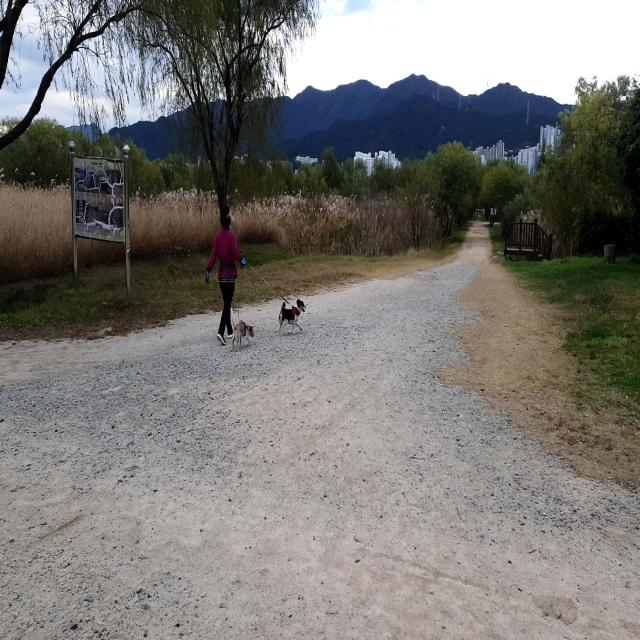Leashed_Dog: (227, 256, 306, 337), (227, 255, 254, 352)
